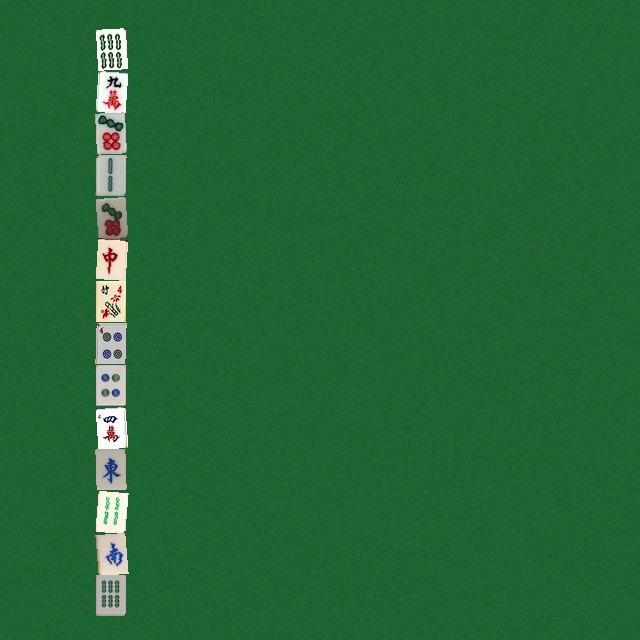tile: (95, 28, 125, 69), (95, 70, 125, 111), (95, 112, 125, 153), (95, 154, 125, 195), (95, 196, 125, 237), (95, 238, 125, 279), (95, 280, 125, 321), (95, 322, 125, 363), (95, 364, 125, 405), (95, 406, 125, 447), (95, 448, 125, 489), (95, 490, 125, 531), (95, 532, 125, 573), (95, 574, 125, 615)
